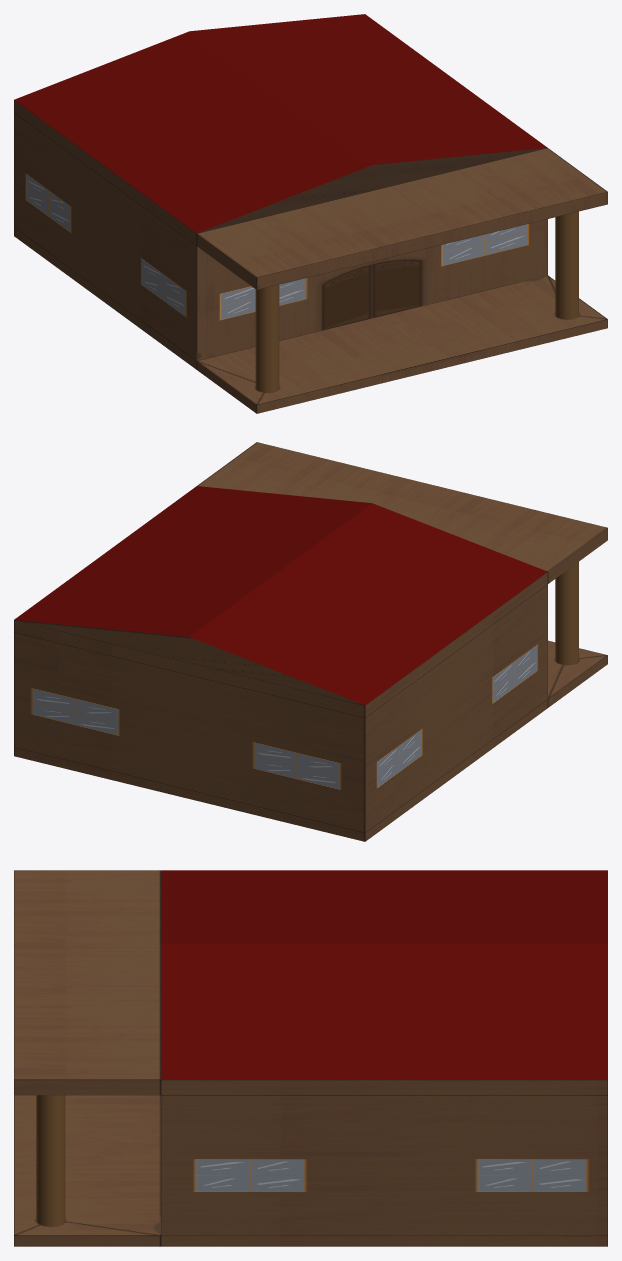
File: Building_1.fbx
3 views of the same model, one above another, from view 1: azimuth 30°, elevation 25°; view 2: azimuth 150°, elevation 25°; view 3: azimuth 270°, elevation 25° (orthographic). The views are drawn at different scales.
Visible parts, largest first — view 1: Cube; view 2: Cube; view 3: Cube.
Part boxes in pixels (x1=…): Cube: x1=14, y1=14, x2=607, y2=413; Cube: x1=14, y1=442, x2=607, y2=841; Cube: x1=14, y1=870, x2=607, y2=1246.
Size of the model in its own units: 539 by 645 by 238.
Materials: 3 (1 with a texture image).
